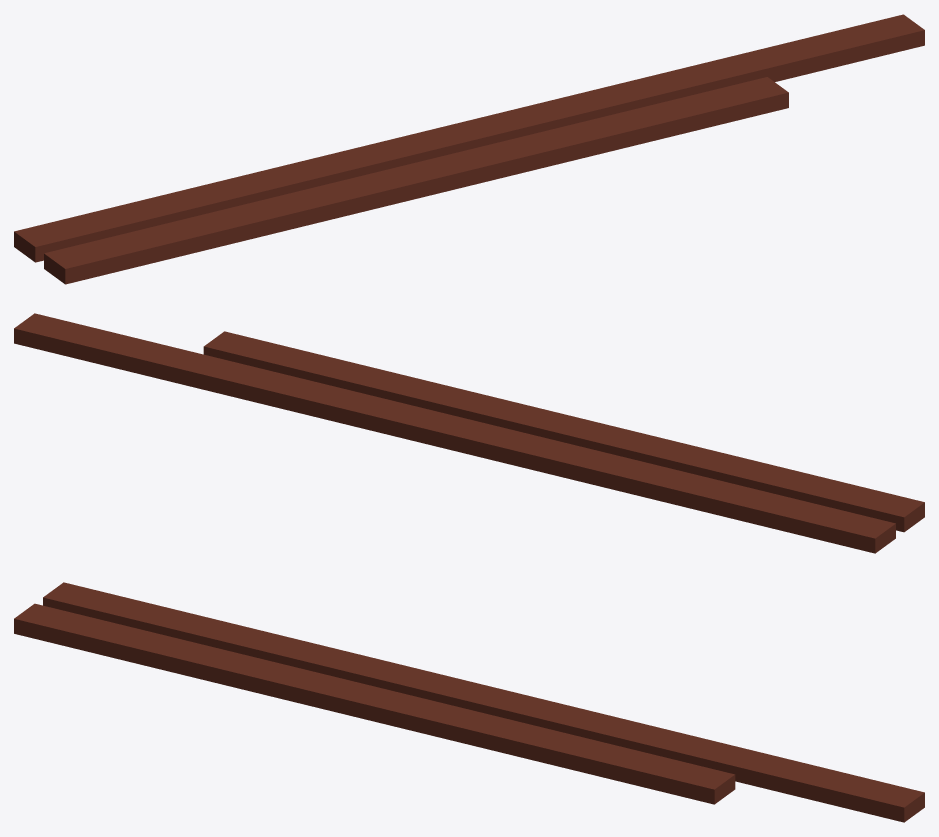
Rendered from beam-250x100_ipe_v0.1.dae.
3 views of the same model, one above another, from view 1: azimuth 30°, elevation 25°; view 2: azimuth 150°, elevation 25°; view 3: azimuth 330°, elevation 25° (orthographic). The views are drawn at different scales.
Parts seen in each view (by area): view 1: IB-272570_beam-250x100_ipe_6000mm, IB-272615_beam-250x100_ipe_4880mm; view 2: IB-272570_beam-250x100_ipe_6000mm, IB-272615_beam-250x100_ipe_4880mm; view 3: IB-272570_beam-250x100_ipe_6000mm, IB-272615_beam-250x100_ipe_4880mm.
Part boxes in pixels (bbox=[...]): IB-272570_beam-250x100_ipe_6000mm: bbox=[14, 14, 924, 262]; IB-272615_beam-250x100_ipe_4880mm: bbox=[44, 77, 788, 284]; IB-272570_beam-250x100_ipe_6000mm: bbox=[14, 313, 895, 553]; IB-272615_beam-250x100_ipe_4880mm: bbox=[203, 331, 924, 532]; IB-272570_beam-250x100_ipe_6000mm: bbox=[43, 582, 924, 822]; IB-272615_beam-250x100_ipe_4880mm: bbox=[14, 603, 735, 804].
Size of the model in its own units: 6000 by 600 by 100.
